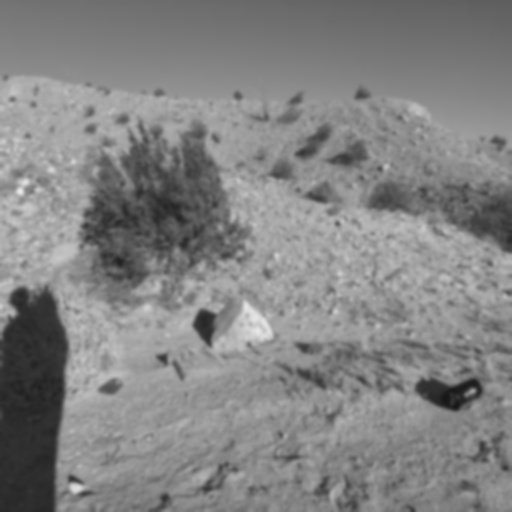bottle: (440, 376, 480, 408)
mallet: (162, 346, 194, 388)
